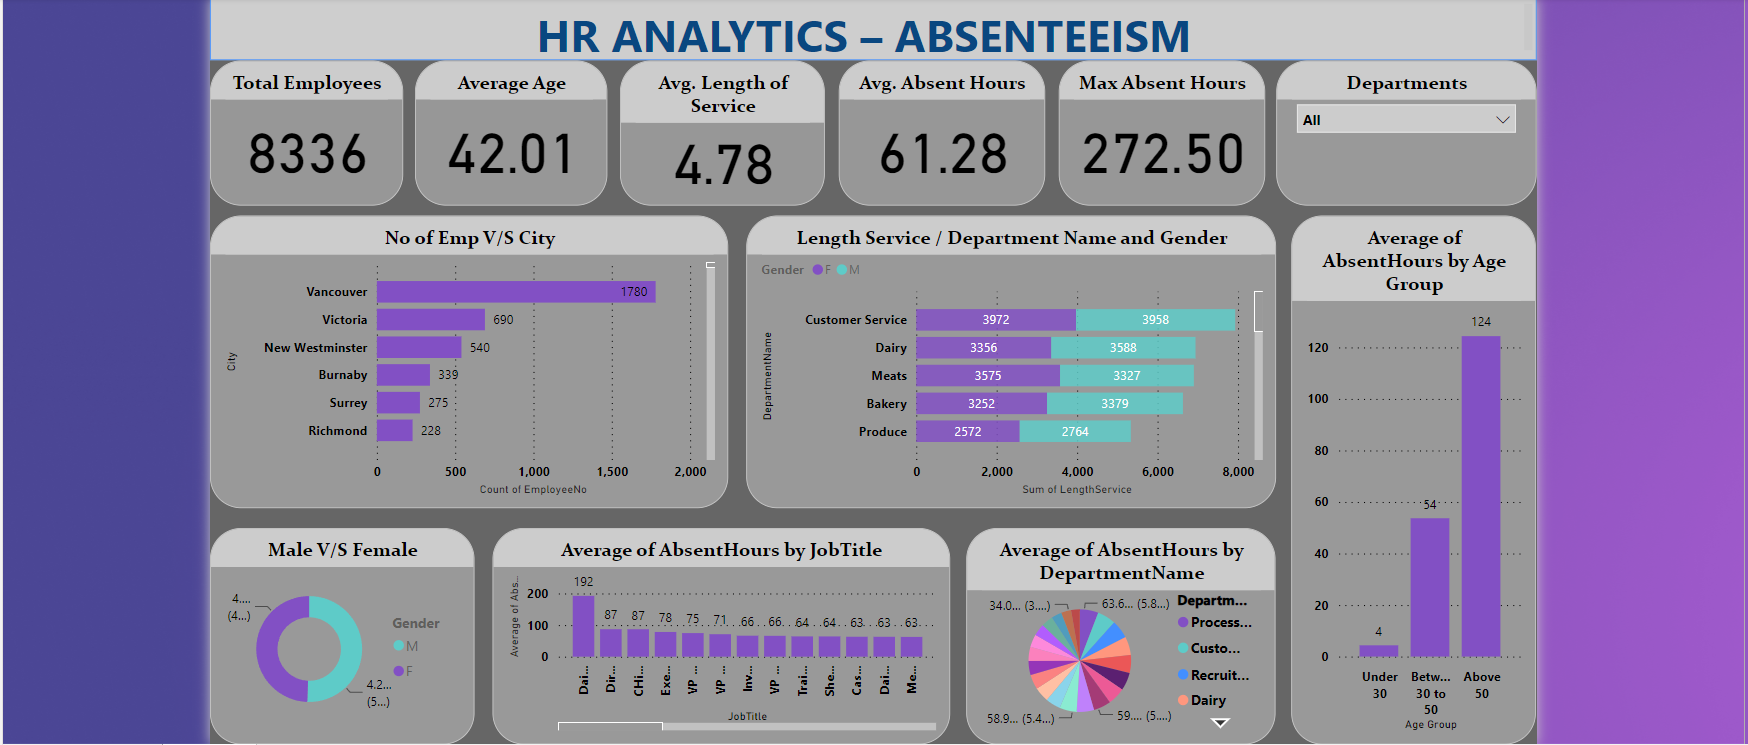

The dashboard page shown, as its layout file describes it:
{"tool":"powerbi","page":{"name":"Page 1","canvas":[1280,720],"ordinal":0},"visuals":[{"type":"textbox","box":[0,0,1280,60],"z":0},{"type":"card","title":"Total Employees","fields":{"Values":["Count(Table 1 (Analysis).EmployeeNo)"]},"box":[0,60,186.2,140],"z":1000},{"type":"card","title":"Average Age ","fields":{"Values":["Avg(Table 1 (Analysis).Age)"]},"box":[197.8,60.3,185.7,139.9],"z":2000},{"type":"card","title":"Avg. Length of Service ","fields":{"Values":["Avg(Table 1 (Analysis).LengthService)"]},"box":[395.6,60.3,197.8,139.9],"z":3000},{"type":"card","title":"Max Absent Hours","fields":{"Values":["Max(Table 1 (Analysis).AbsentHours)"]},"box":[818.9,60.3,199,139.9],"z":4000},{"type":"card","title":"Avg. Absent Hours","fields":{"Values":["Avg(Table 1 (Analysis).AbsentHours)"]},"box":[606.6,60.3,199,139.9],"z":5000},{"type":"donutChart","title":"Male V/S Female","fields":{"Category":["Table 1 (Analysis).Gender"],"Y":["Count(Table 1 (Analysis).EmployeeNo)"]},"box":[0,511.2,255,208.8],"z":6000},{"type":"barChart","title":"No of Emp V/S City","fields":{"Category":["Table 1 (Analysis).City"],"Y":["CountNonNull(Table 1 (Analysis).EmployeeNo)"]},"box":[0,210,500,282.5],"z":7000},{"type":"barChart","title":"Length Service / Department Name and Gender","fields":{"Y":["Sum(Table 1 (Analysis).LengthService)"],"Category":["Table 1 (Analysis).DepartmentName"],"Series":["Table 1 (Analysis).Gender"]},"box":[517.5,210,511.2,282.5],"z":8000},{"type":"clusteredColumnChart","fields":{"Y":["Avg(Table 1 (Analysis).AbsentHours)"],"Category":["Table 1 (Analysis).JobTitle"]},"box":[272.5,511.2,441.2,208.8],"z":9000},{"type":"pieChart","fields":{"Category":["Table 1 (Analysis).DepartmentName"],"Y":["Avg(Table 1 (Analysis).AbsentHours)"]},"box":[730,511.2,298.8,208.8],"z":10000},{"type":"clusteredColumnChart","fields":{"Y":["Avg(Table 1 (Analysis).AbsentHours)"],"Category":["Table 1 (Analysis).Age Group "]},"box":[1043.2,209.8,236.4,510.2],"z":11000},{"type":"slicer","title":"Departments","fields":{"Values":["Table 1 (Analysis).DepartmentName"]},"box":[1028.7,60.3,250.9,139.9],"z":12000}]}

Visuals, with their boxes on the page's 1280x720 design canvas (x1, y1, x2, y2). These are canvas units, not pixel positions in the 1748x745 screenshot, which may show the page scaled, cropped or inside an application window:
textbox: pyautogui.locateOnScreen(0, 0, 1280, 60)
"Total Employees" card: pyautogui.locateOnScreen(0, 60, 186, 200)
"Average Age " card: pyautogui.locateOnScreen(198, 60, 384, 200)
"Avg. Length of Service " card: pyautogui.locateOnScreen(396, 60, 593, 200)
"Max Absent Hours" card: pyautogui.locateOnScreen(819, 60, 1018, 200)
"Avg. Absent Hours" card: pyautogui.locateOnScreen(607, 60, 806, 200)
"Male V/S Female" donutChart: pyautogui.locateOnScreen(0, 511, 255, 720)
"No of Emp V/S City" barChart: pyautogui.locateOnScreen(0, 210, 500, 492)
"Length Service / Department Name and Gender" barChart: pyautogui.locateOnScreen(518, 210, 1029, 492)
clusteredColumnChart - Avg(Table 1 (Analysis).AbsentHours) x Table 1 (Analysis).JobTitle: pyautogui.locateOnScreen(272, 511, 714, 720)
pieChart - Table 1 (Analysis).DepartmentName x Avg(Table 1 (Analysis).AbsentHours): pyautogui.locateOnScreen(730, 511, 1029, 720)
clusteredColumnChart - Avg(Table 1 (Analysis).AbsentHours) x Table 1 (Analysis).Age Group : pyautogui.locateOnScreen(1043, 210, 1280, 720)
"Departments" slicer: pyautogui.locateOnScreen(1029, 60, 1280, 200)
